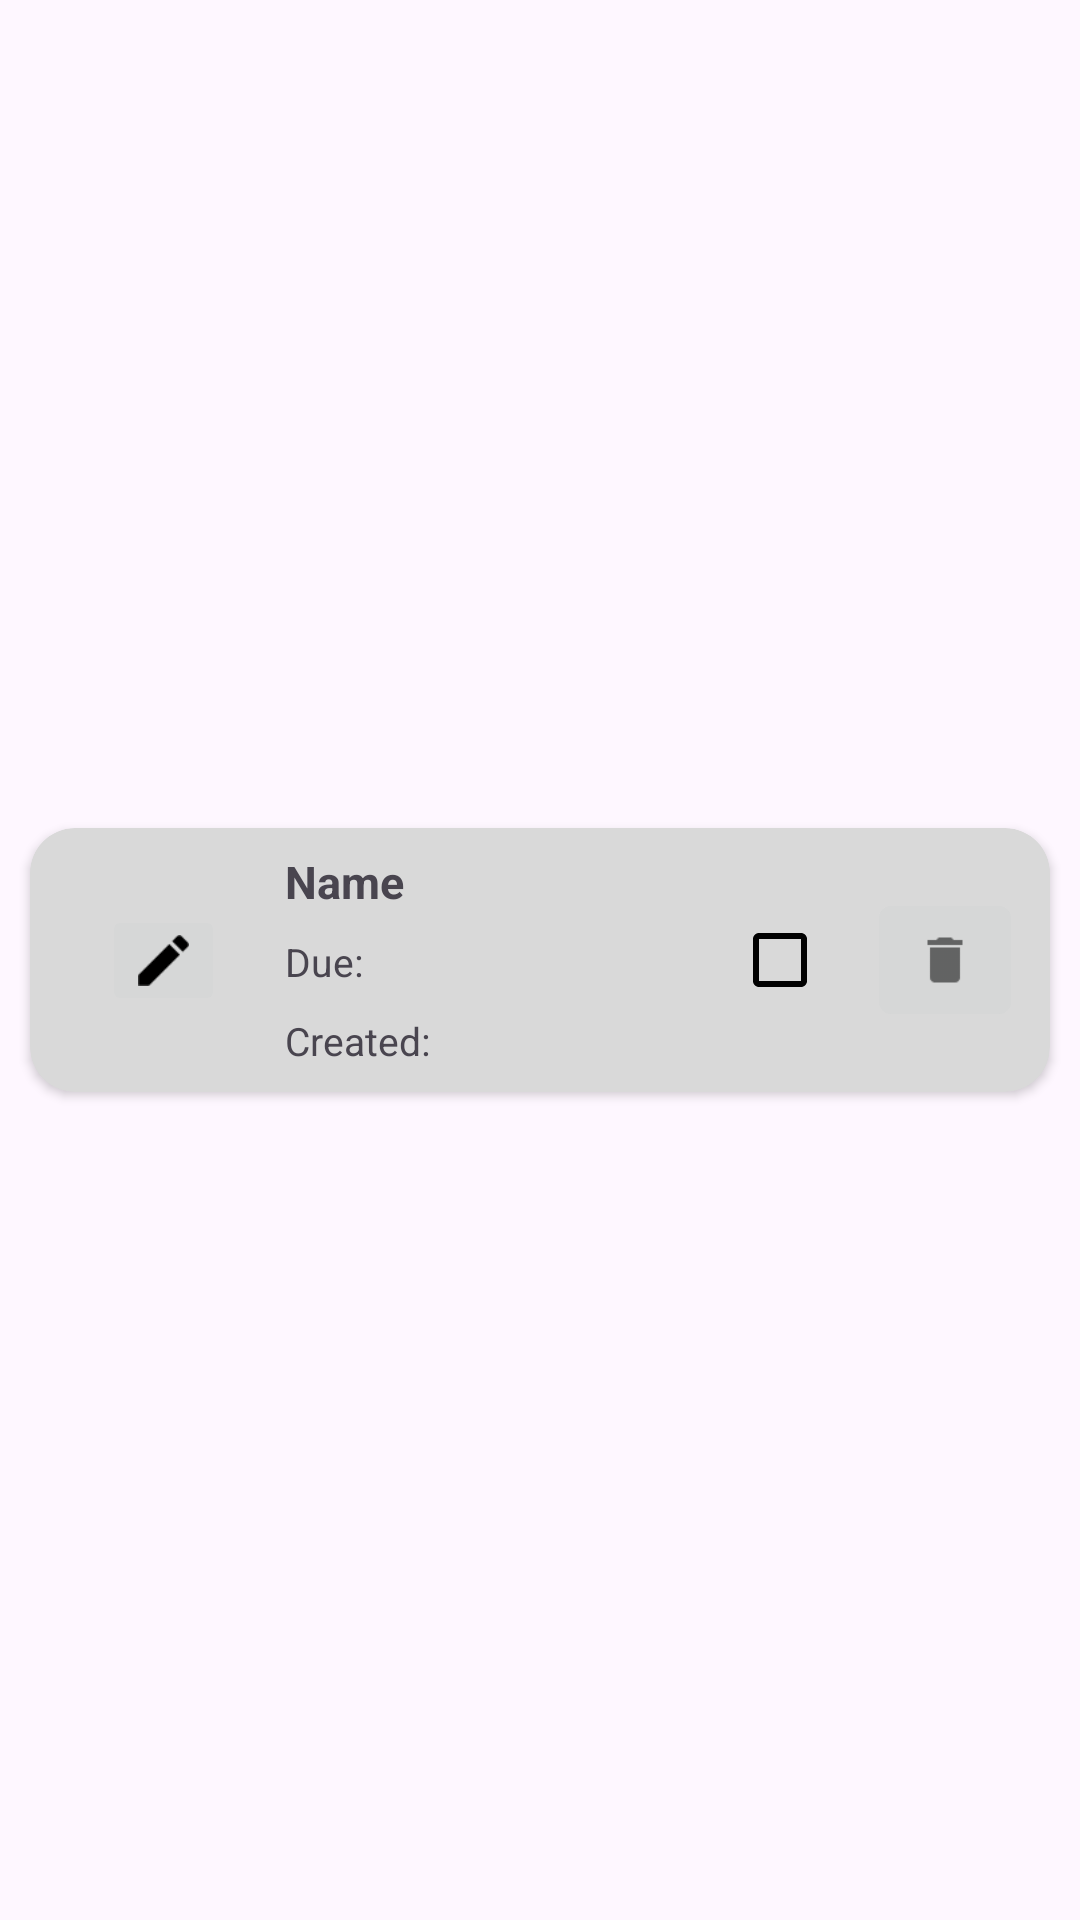

Locate icon controls on the screen. Image size 1080px x 1920px, boxes as (x1, y1, x2, y2).
edit: (138, 935, 189, 986)
